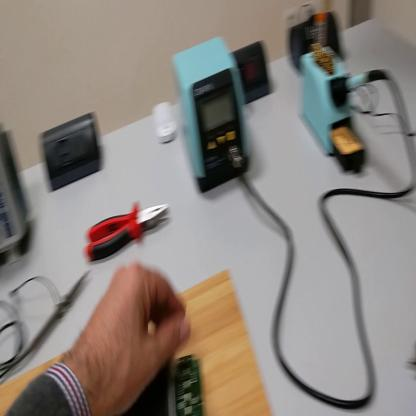hand: (72, 264, 191, 414)
low voltage board: (127, 354, 205, 416)
oscilloscope: (2, 111, 31, 267)
oscilloscope probe tip: (17, 269, 89, 365)
pliers: (83, 193, 169, 260)
socket: (287, 13, 344, 73), (231, 42, 273, 107)
welder base: (297, 17, 370, 174)
welder probe tip: (336, 67, 389, 98)
welder station: (173, 36, 253, 196)
working area: (2, 266, 274, 414)
